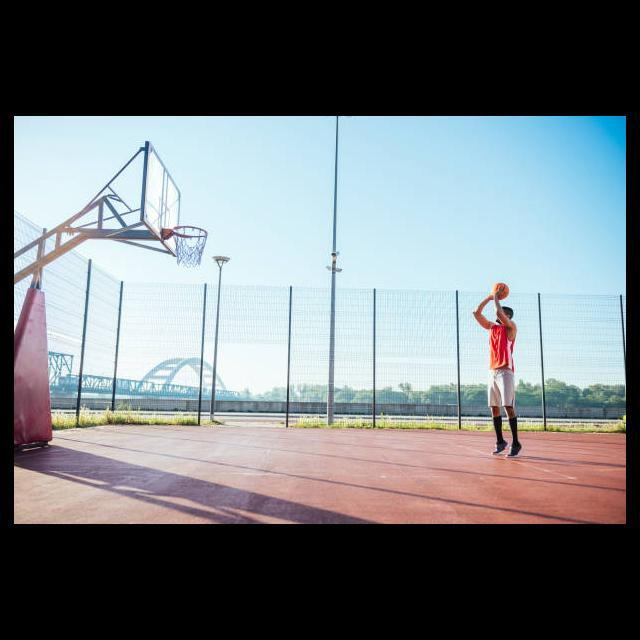basketball: (494, 281, 509, 299)
hoop: (173, 224, 207, 266)
